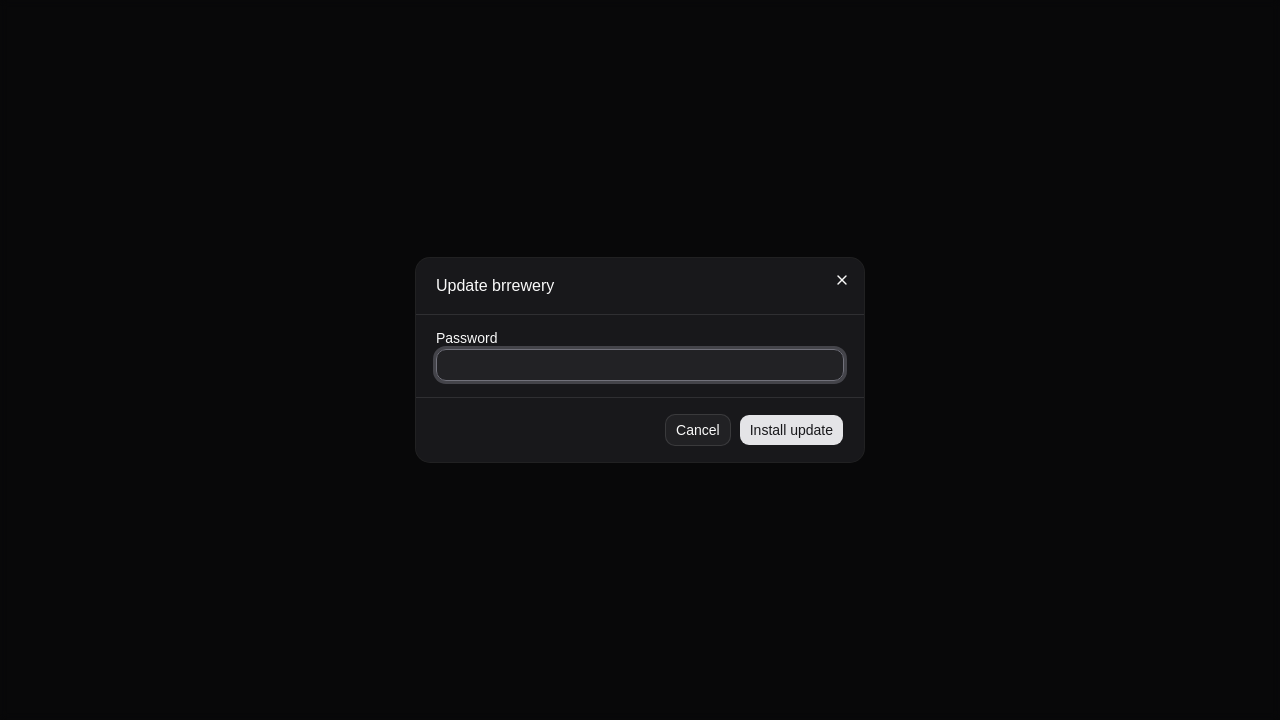
Test case: UpdateModal › starts the job and streams its logs
Type "password123" into the password field labelled "Password" at (640, 365), box [436,349,844,381]
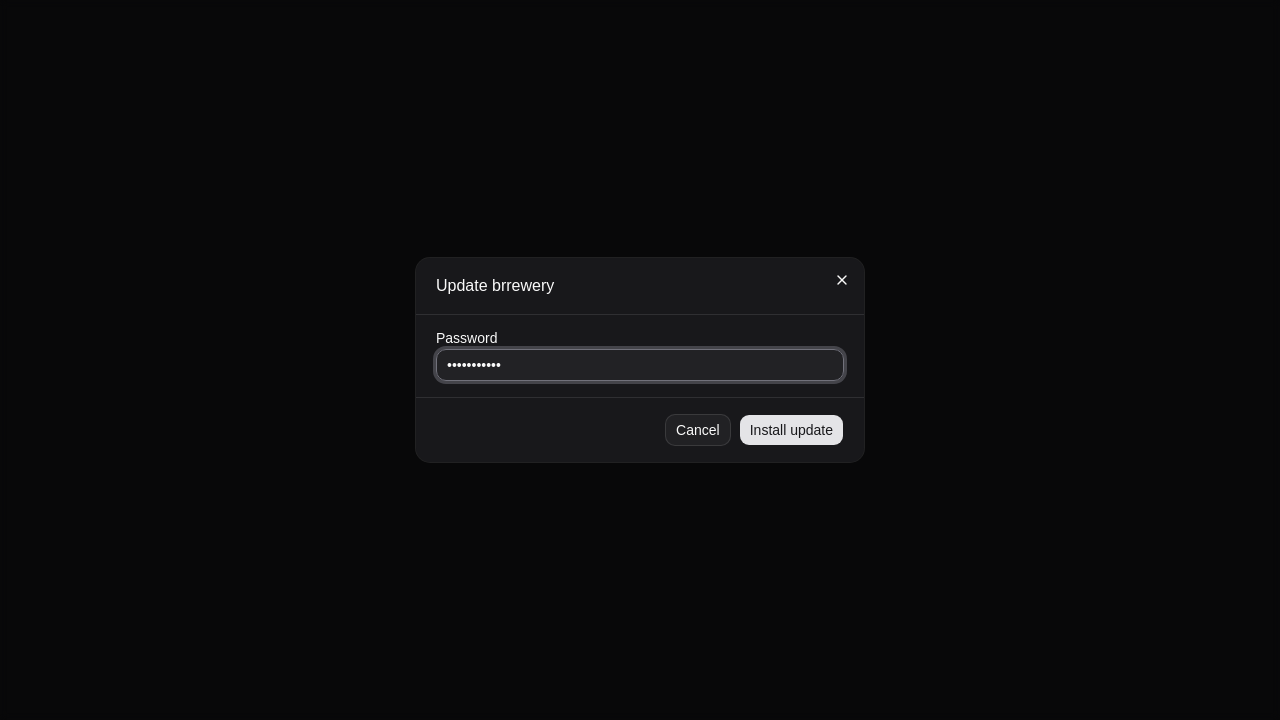
Click the button "Install update" at (791, 430), box [739,414,844,446]
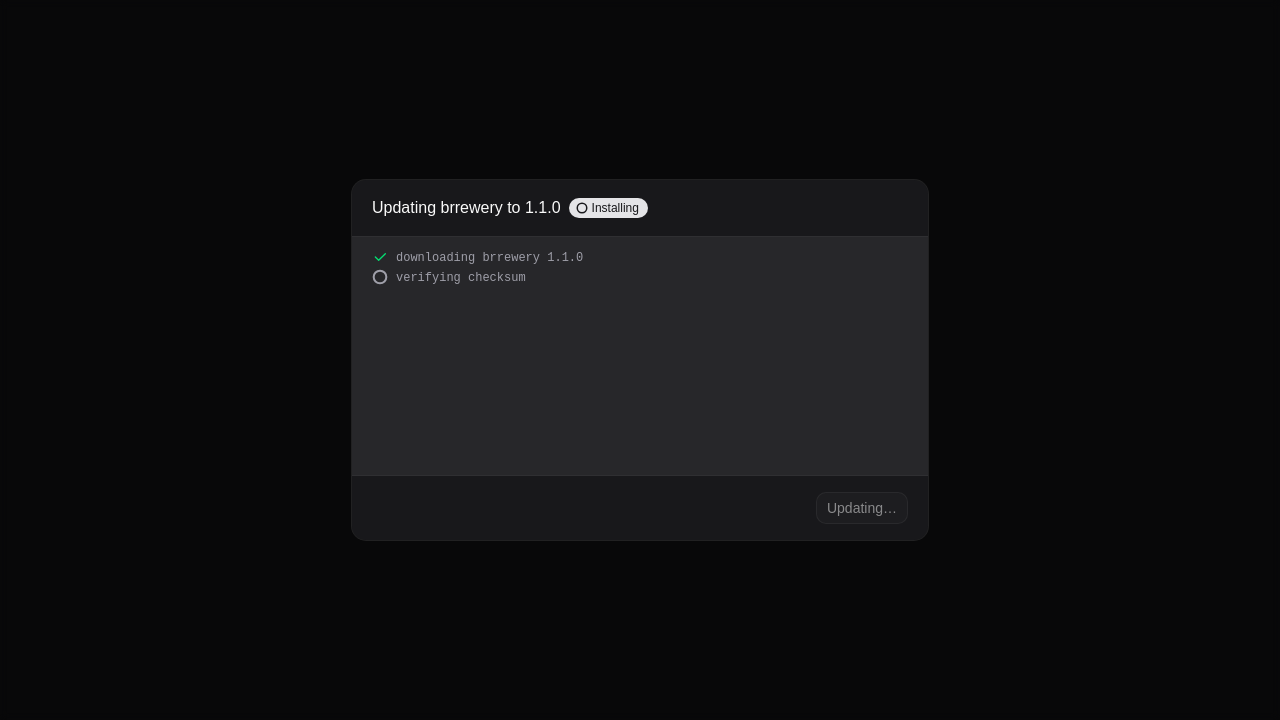
Expected: the text "Installing" is shown, [569,198,648,218]
Expected: the text "verifying checksum" is shown, [396,268,526,288]
Expected: the button "Updating…" is disabled, [816,492,908,524]
